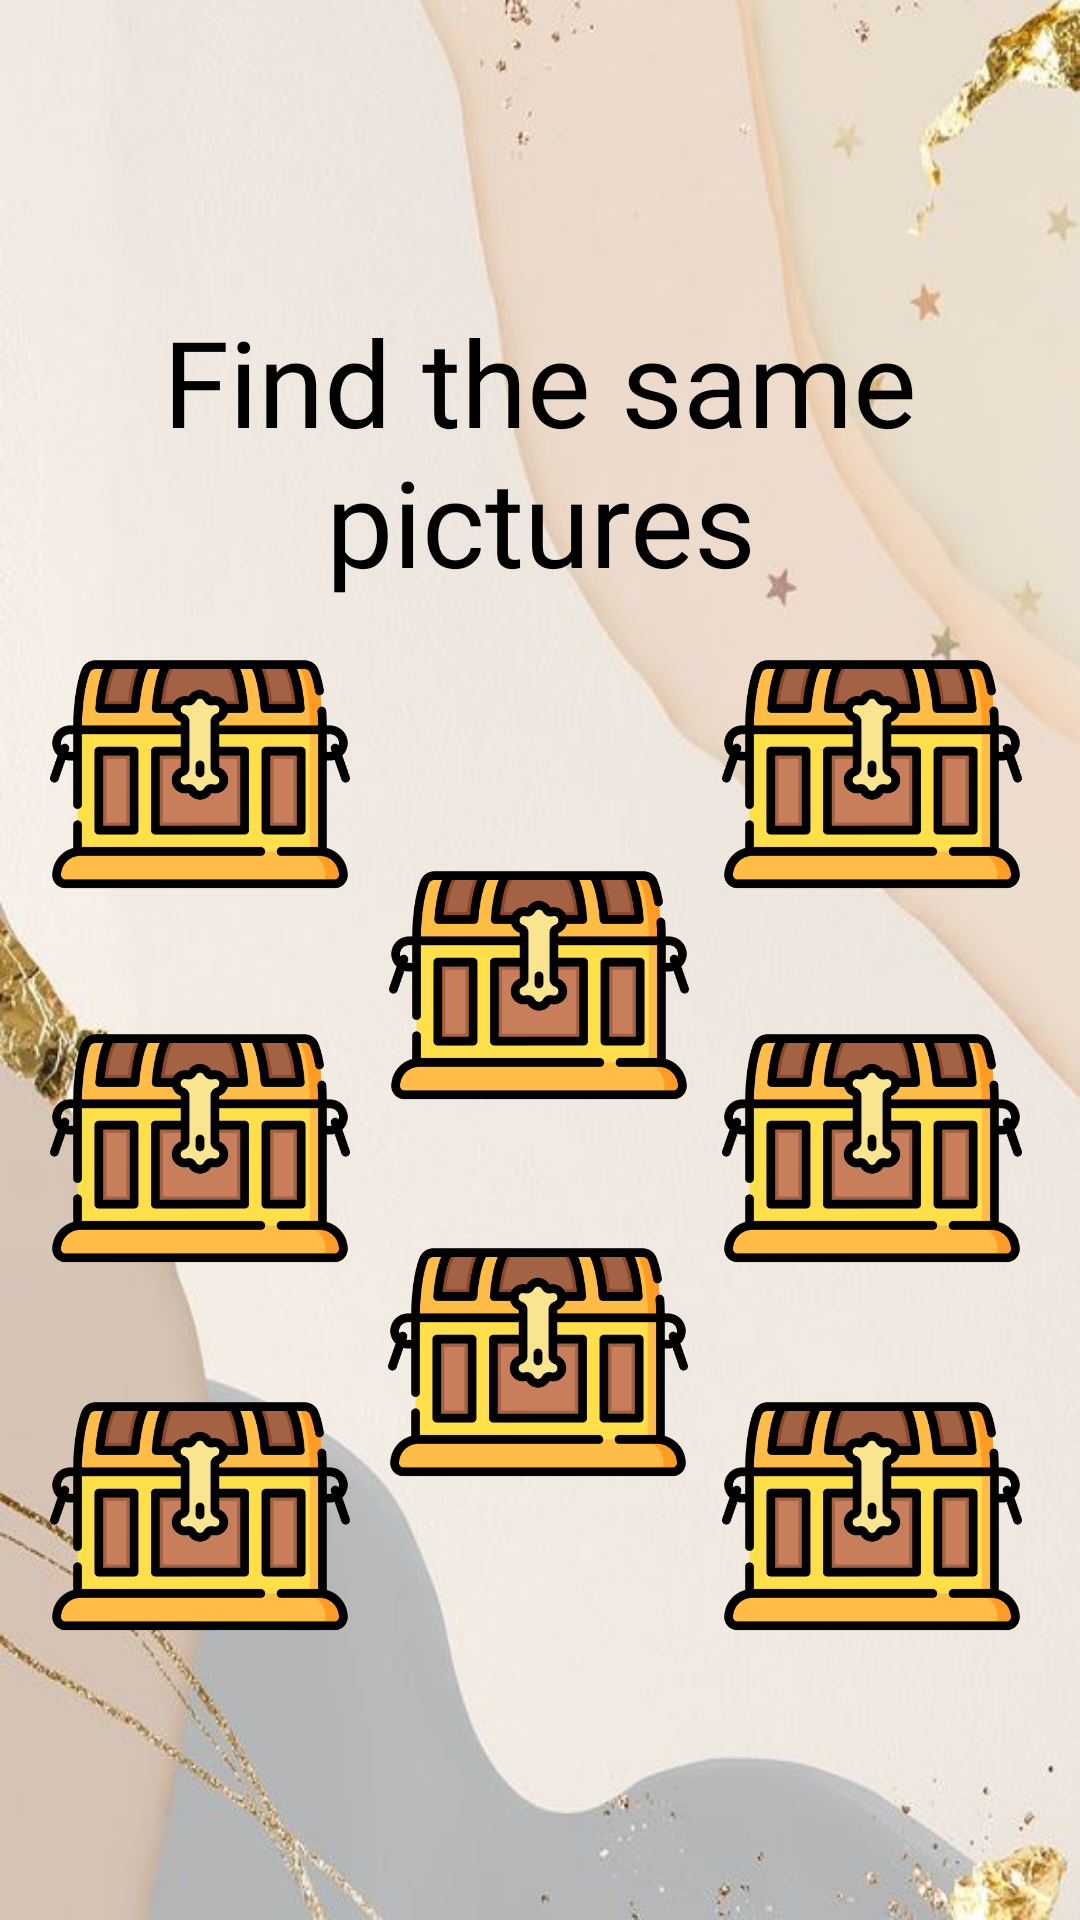

Icons on this 1080w x 1920h Android screen, each with the point to tap as [x,y]:
treasure: [872,758], [200,774], [539,985], [200,1148], [872,1148], [538,1362], [200,1516], [872,1516]
